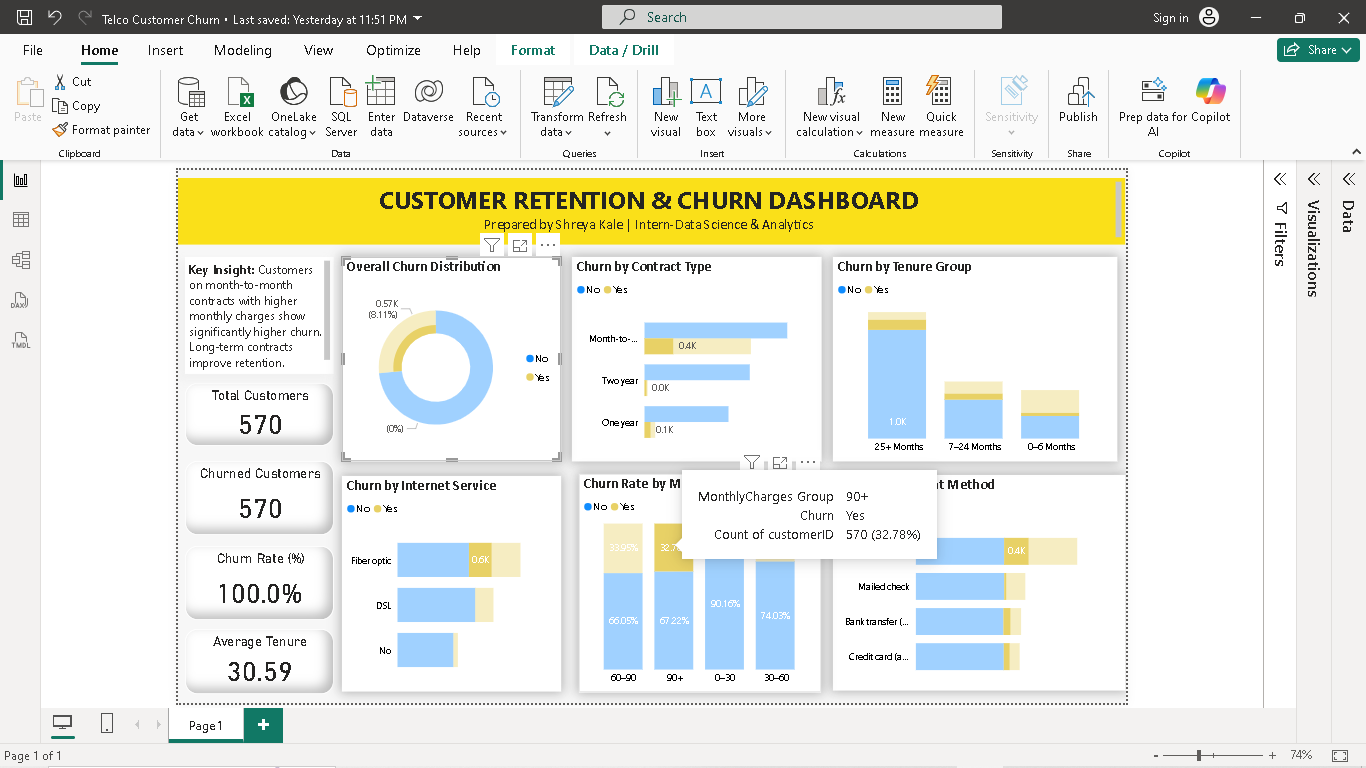

What the dashboard file says about the page in this screenshot:
{"tool":"powerbi","page":{"name":"Page 1","canvas":[1280,720],"ordinal":0},"visuals":[{"type":"textbox","box":[0,11.4,1280,90],"z":0},{"type":"card","title":"Total Customers","fields":{"Values":["CountNonNull(Telco-Customer-Churn.customerID)"]},"box":[9.5,287.8,201.4,85.1],"z":1000},{"type":"card","title":"Churned Customers","fields":{"Values":["CountNonNull(Telco-Customer-Churn.customerID)"]},"box":[9.5,393.2,201.4,100],"z":2000},{"type":"card","title":"Average Tenure","fields":{"Values":["Avg(Telco-Customer-Churn.tenure)"]},"box":[9.5,620.3,201.4,87.8],"z":3000},{"type":"donutChart","title":"Overall Churn Distribution","fields":{"Category":["Telco-Customer-Churn.Churn"],"Y":["CountNonNull(Telco-Customer-Churn.customerID)"]},"box":[221.4,117.1,295.7,275.7],"z":4000},{"type":"barChart","title":"Churn by Internet Service","fields":{"Category":["Telco-Customer-Churn.InternetService"],"Y":["CountNonNull(Telco-Customer-Churn.customerID)"],"Series":["Telco-Customer-Churn.Churn"]},"box":[221.4,412.9,295.7,291.4],"z":5000},{"type":"clusteredBarChart","title":"Churn by Contract Type","fields":{"Category":["Telco-Customer-Churn.Contract"],"Y":["CountNonNull(Telco-Customer-Churn.customerID)"],"Series":["Telco-Customer-Churn.Churn"]},"box":[532.9,117.1,337.1,275.7],"z":6000},{"type":"barChart","title":"Churn by Payment Method","fields":{"Category":["Telco-Customer-Churn.PaymentMethod"],"Y":["CountNonNull(Telco-Customer-Churn.customerID)"],"Series":["Telco-Customer-Churn.Churn"]},"box":[885.1,412.2,394.6,290.5],"z":7000},{"type":"columnChart","title":"Churn by Tenure Group","fields":{"Category":["Telco-Customer-Churn.Tenure Group"],"Y":["CountNonNull(Telco-Customer-Churn.customerID)"],"Series":["Telco-Customer-Churn.Churn"]},"box":[885.7,117.1,384.3,275.7],"z":8000},{"type":"card","title":"Churn Rate (%)","fields":{"Values":["Telco-Customer-Churn.Churn Rate %"]},"box":[9.5,508.1,201.4,100],"z":9000},{"type":"hundredPercentStackedColumnChart","title":"Churn Rate by Monthly Charges Range","fields":{"Y":["CountNonNull(Telco-Customer-Churn.customerID)"],"Series":["Telco-Customer-Churn.Churn"],"Category":["Telco-Customer-Churn.MonthlyCharges Group"]},"box":[541.9,410.8,327,294.6],"z":10000},{"type":"textbox","box":[9.5,117.6,201.4,158.1],"z":11000}]}

Visuals, with their boxes on the page's 1280x720 design canvas (x1, y1, x2, y2). These are canvas units, not pixel positions in the 1366x768 screenshot, which may show the page scaled, cropped or inside an application window:
textbox: (0, 11, 1280, 101)
"Total Customers" card: (10, 288, 211, 373)
"Churned Customers" card: (10, 393, 211, 493)
"Average Tenure" card: (10, 620, 211, 708)
"Overall Churn Distribution" donutChart: (221, 117, 517, 393)
"Churn by Internet Service" barChart: (221, 413, 517, 704)
"Churn by Contract Type" clusteredBarChart: (533, 117, 870, 393)
"Churn by Payment Method" barChart: (885, 412, 1280, 703)
"Churn by Tenure Group" columnChart: (886, 117, 1270, 393)
"Churn Rate (%)" card: (10, 508, 211, 608)
"Churn Rate by Monthly Charges Range" hundredPercentStackedColumnChart: (542, 411, 869, 705)
textbox: (10, 118, 211, 276)
